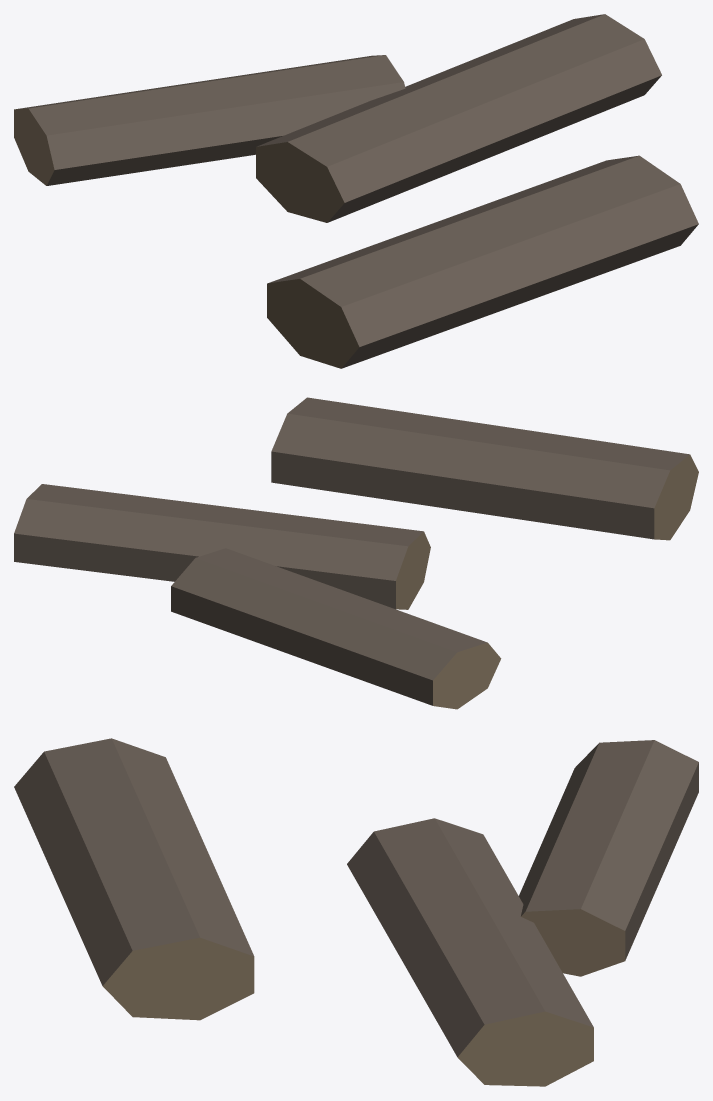
File: log_scatter.glb
3 renders of one model, top to bottom at view 1: azimuth 30°, elevation 25°; view 2: azimuth 150°, elevation 25°; view 3: azimuth 270°, elevation 25°, orthographic. The views are drawn at different scales.
Visible parts, largest first — view 1: log_scatter; view 2: log_scatter; view 3: log_scatter.
Part boxes in pixels (box(x1,y1,x2,y2)): log_scatter: box(14, 14, 698, 368); log_scatter: box(14, 397, 698, 709); log_scatter: box(14, 738, 698, 1086).
Size of the model in its own units: 3 by 0.4 by 3.
